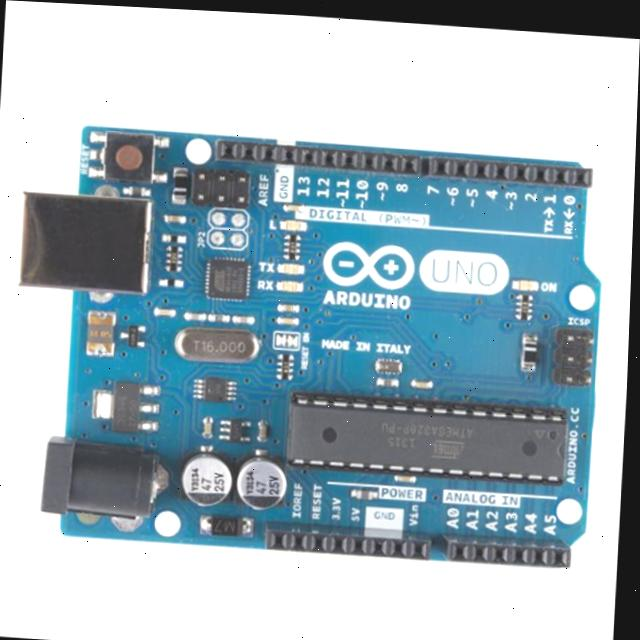Arduino: (6, 110, 612, 577)
